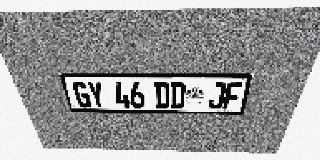4: (113, 82, 131, 108)
6: (128, 82, 145, 108)
D: (170, 82, 186, 109), (154, 82, 170, 108)
F: (222, 82, 243, 109)
G: (71, 82, 92, 108)
J: (207, 82, 227, 109)
Y: (87, 82, 106, 108)
